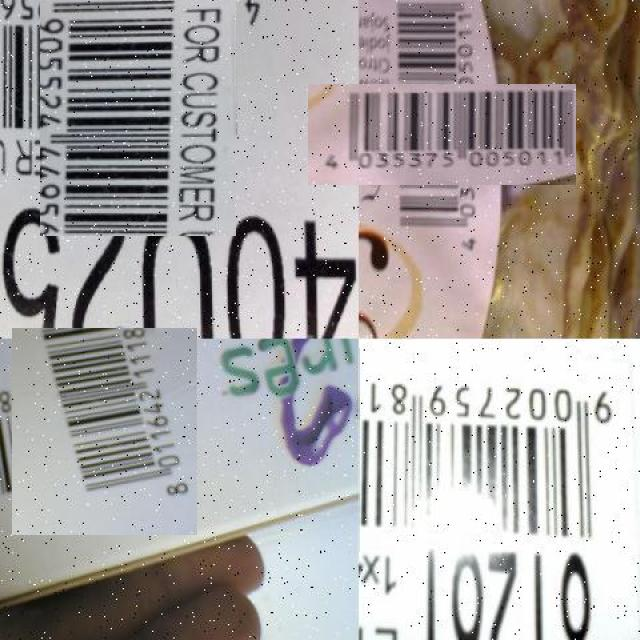Barcode: (358, 348, 626, 552), (20, 0, 257, 216), (6, 333, 202, 530), (349, 42, 535, 226)
